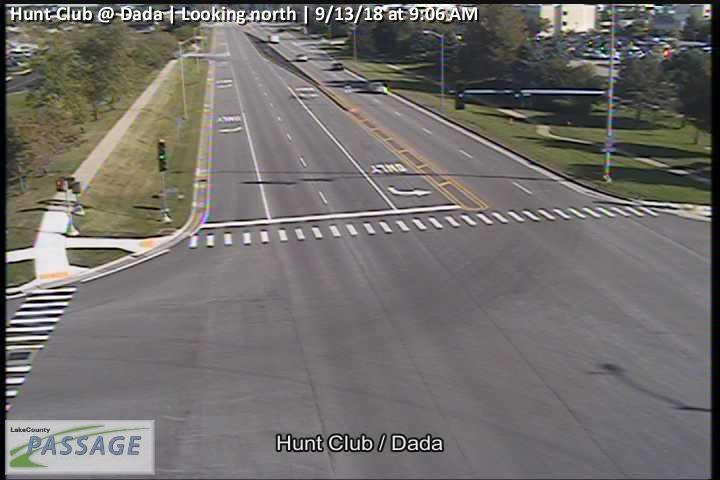Sedan: (367, 81, 386, 94), (329, 61, 343, 70), (295, 53, 308, 61), (269, 35, 279, 43)
